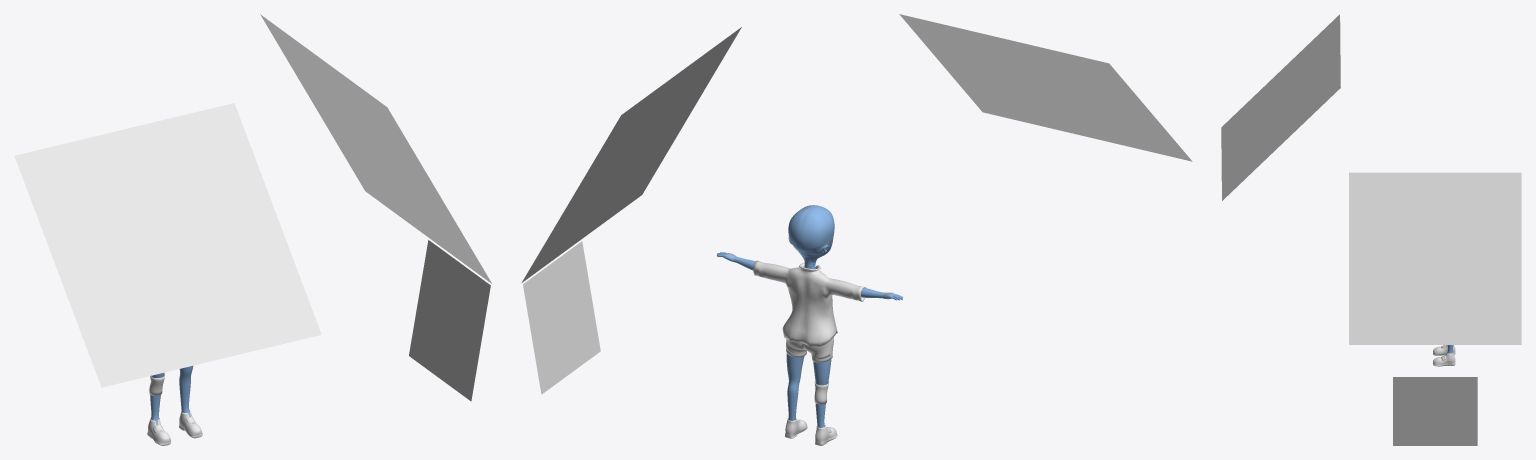
File: anime-character(high).fbx
3 renders of one model, left to right at view 1: azimuth 30°, elevation 25°; view 2: azimuth 150°, elevation 25°; view 3: azimuth 270°, elevation 25°, orthographic. The views are drawn at different scales.
Visible parts, largest first — view 1: Plane.002, Plane, Plane.001, shoe, anime boy hair; view 2: Plane.002, Plane, Plane.001, jacket, anime boy hair, shoe, half pant; view 3: Plane, Plane.002, Plane.001, shoe.
Part boxes in pixels (box(x1,y1,x2,y2)): Plane.002: box(14, 103, 321, 387); Plane: box(260, 14, 491, 283); Plane.001: box(409, 240, 490, 401); shoe: box(147, 410, 202, 445); anime boy hair: box(150, 366, 193, 425); Plane.002: box(899, 14, 1192, 161); Plane: box(521, 27, 741, 282); Plane.001: box(523, 241, 600, 394); jacket: box(753, 260, 866, 346); anime boy hair: box(717, 205, 903, 427); shoe: box(785, 418, 837, 445); half pant: box(786, 337, 833, 362); Plane: box(1349, 172, 1521, 344); Plane.002: box(1221, 14, 1340, 200); Plane.001: box(1393, 377, 1477, 445); shoe: box(1433, 345, 1455, 366).
Size of the model in its own units: 417 by 305 by 310.
